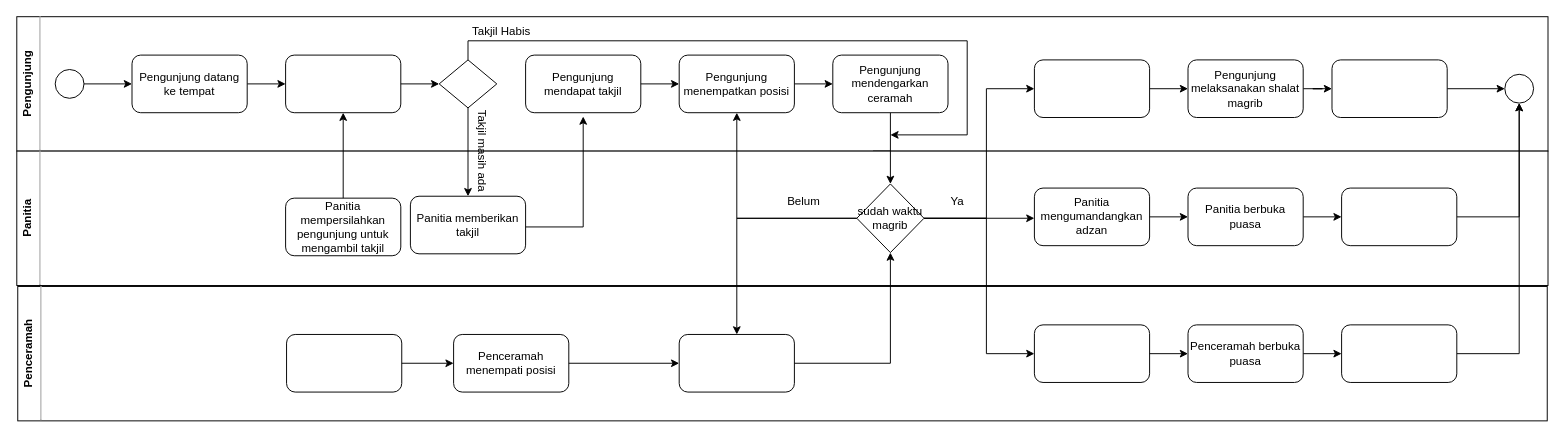
This 1565x439 diagram has some shape labels left out. The shapes that lost their labels are listed below. From the top down, each one's centre as x and y in pixels, then its label:
(x=343, y=83): Pengunjung mengantri mengambil makanan
(x=1091, y=88): Pengunjung berbuka puasa
(x=1389, y=88): Pengunjung pulang
(x=1399, y=216): Panitia melaksanakan shalat magrib
(x=344, y=363): Penceramah datang
(x=736, y=363): Penceramah berceramah
(x=1091, y=353): Penceramah berhenti ceramah
(x=1399, y=353): Penceramah melaksanakan shalat magrib
